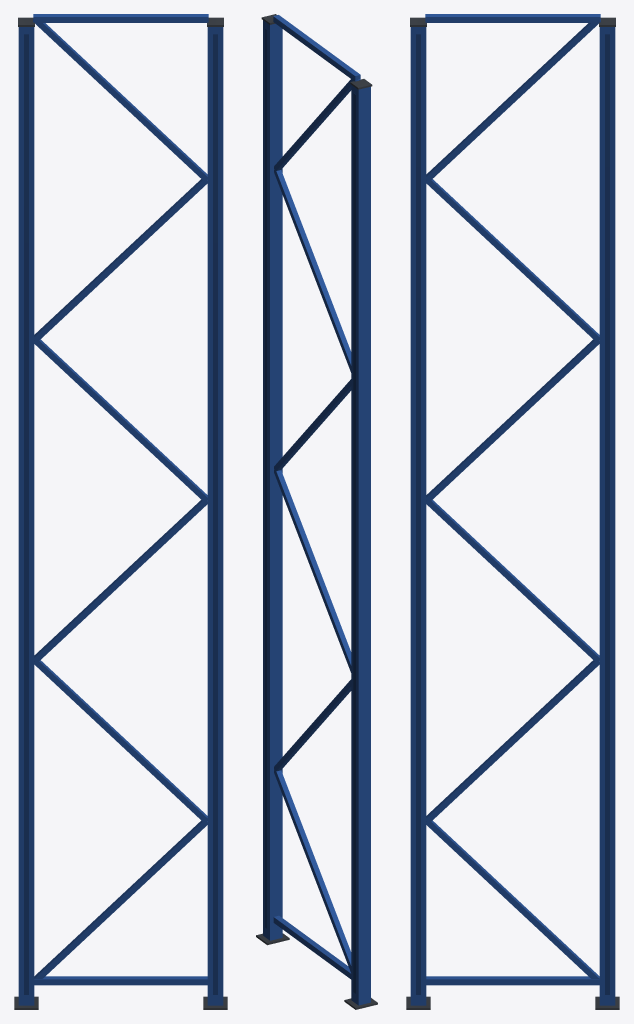
File: bastidor-CiVrgjBn.glb
3 renders of one model, left to right at view 1: azimuth 90°, elevation 25°; view 2: azimuth 210°, elevation 25°; view 3: azimuth 270°, elevation 25°, orthographic. The views are drawn at different scales.
Visible parts, largest first — view 1: pieza, pieza.005, pieza.001, pieza.006, diagonal.001, diagonal.003, diagonal.004, diagonal.002, diagonal, diagonal.005, pieza.010, pieza.011; view 2: pieza, pieza.005, pieza.002, pieza.007, diagonal.004, diagonal.002, diagonal, pieza.011, diagonal.005, diagonal.001, diagonal.003, pieza.010; view 3: pieza, pieza.005, pieza.002, pieza.007, diagonal.001, diagonal.003, diagonal.004, diagonal.002, diagonal, diagonal.005, pieza.010, pieza.011.
Part boxes in pixels (x1,y1,x2,y2): pieza: [18, 27, 34, 1005]; pieza.005: [207, 27, 223, 1005]; pieza.001: [24, 34, 28, 994]; pieza.006: [213, 34, 217, 994]; diagonal.001: [34, 659, 207, 821]; diagonal.003: [34, 339, 207, 502]; diagonal.004: [34, 178, 207, 340]; diagonal.002: [34, 500, 207, 662]; diagonal: [34, 820, 207, 978]; diagonal.005: [33, 19, 207, 179]; pieza.010: [34, 976, 207, 985]; pieza.011: [33, 14, 208, 22]; pieza: [351, 85, 370, 1005]; pieza.005: [263, 20, 282, 940]; pieza.002: [353, 93, 355, 993]; pieza.007: [265, 28, 267, 928]; diagonal.004: [274, 169, 351, 372]; diagonal.002: [274, 469, 351, 672]; diagonal: [274, 769, 351, 972]; pieza.011: [273, 15, 360, 81]; diagonal.005: [274, 79, 360, 170]; diagonal.001: [274, 679, 351, 771]; diagonal.003: [274, 379, 351, 470]; pieza.010: [273, 915, 351, 979]; pieza: [599, 27, 615, 1005]; pieza.005: [410, 27, 426, 1005]; pieza.002: [605, 34, 609, 994]; pieza.007: [416, 34, 420, 994]; diagonal.001: [426, 660, 599, 822]; diagonal.003: [426, 339, 599, 502]; diagonal.004: [426, 178, 599, 340]; diagonal.002: [426, 500, 599, 661]; diagonal: [426, 820, 599, 978]; diagonal.005: [426, 19, 600, 179]; pieza.010: [426, 976, 599, 985]; pieza.011: [425, 14, 600, 22].
Size of the model in its own units: 0.16 by 6.35 by 1.24.
